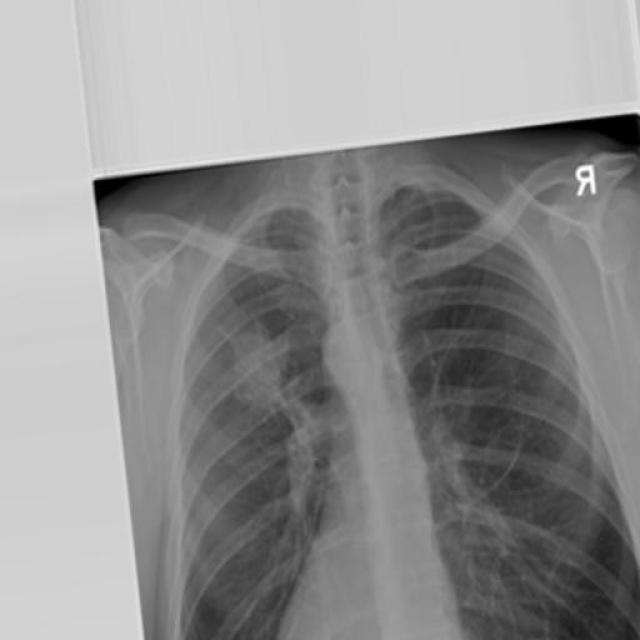tuberculosis: (90, 112, 640, 640)
